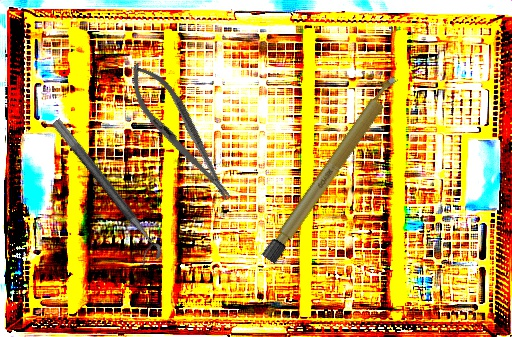Fixation Ring: (39, 117, 166, 269)
Needle Holder: (117, 54, 244, 211)
Scalpel Handle: (261, 72, 403, 265)
